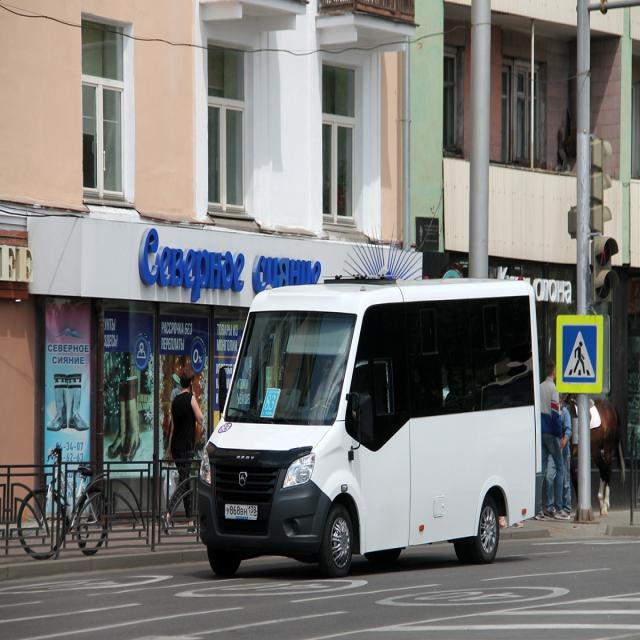number-of-bus: (264, 394, 278, 411)
